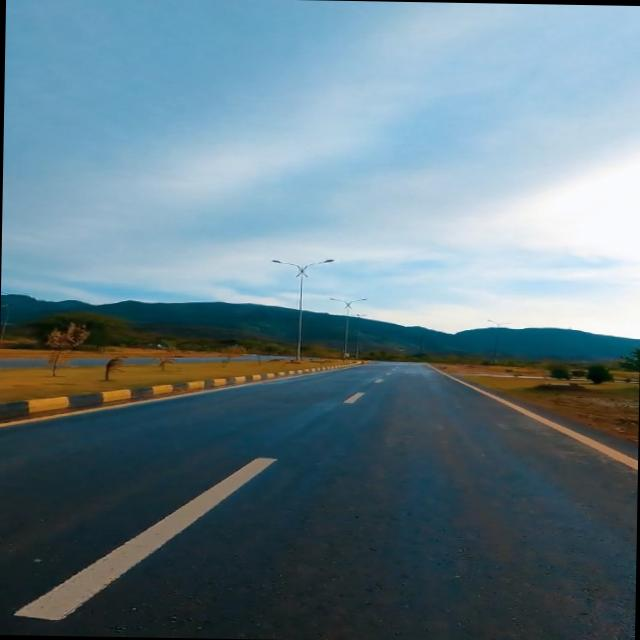asphalt: (0, 362, 638, 640)
grass: (437, 362, 639, 444), (0, 348, 302, 402), (0, 347, 52, 362)
